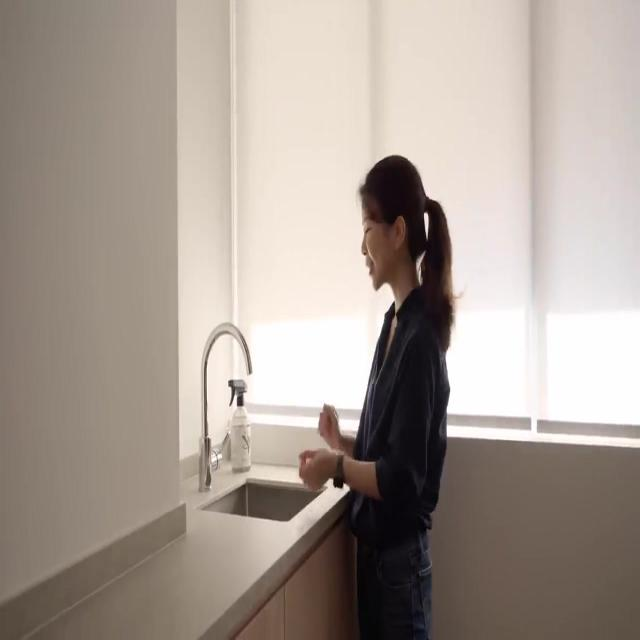obstacle: (232, 512, 356, 639)
person: (298, 154, 454, 638)
